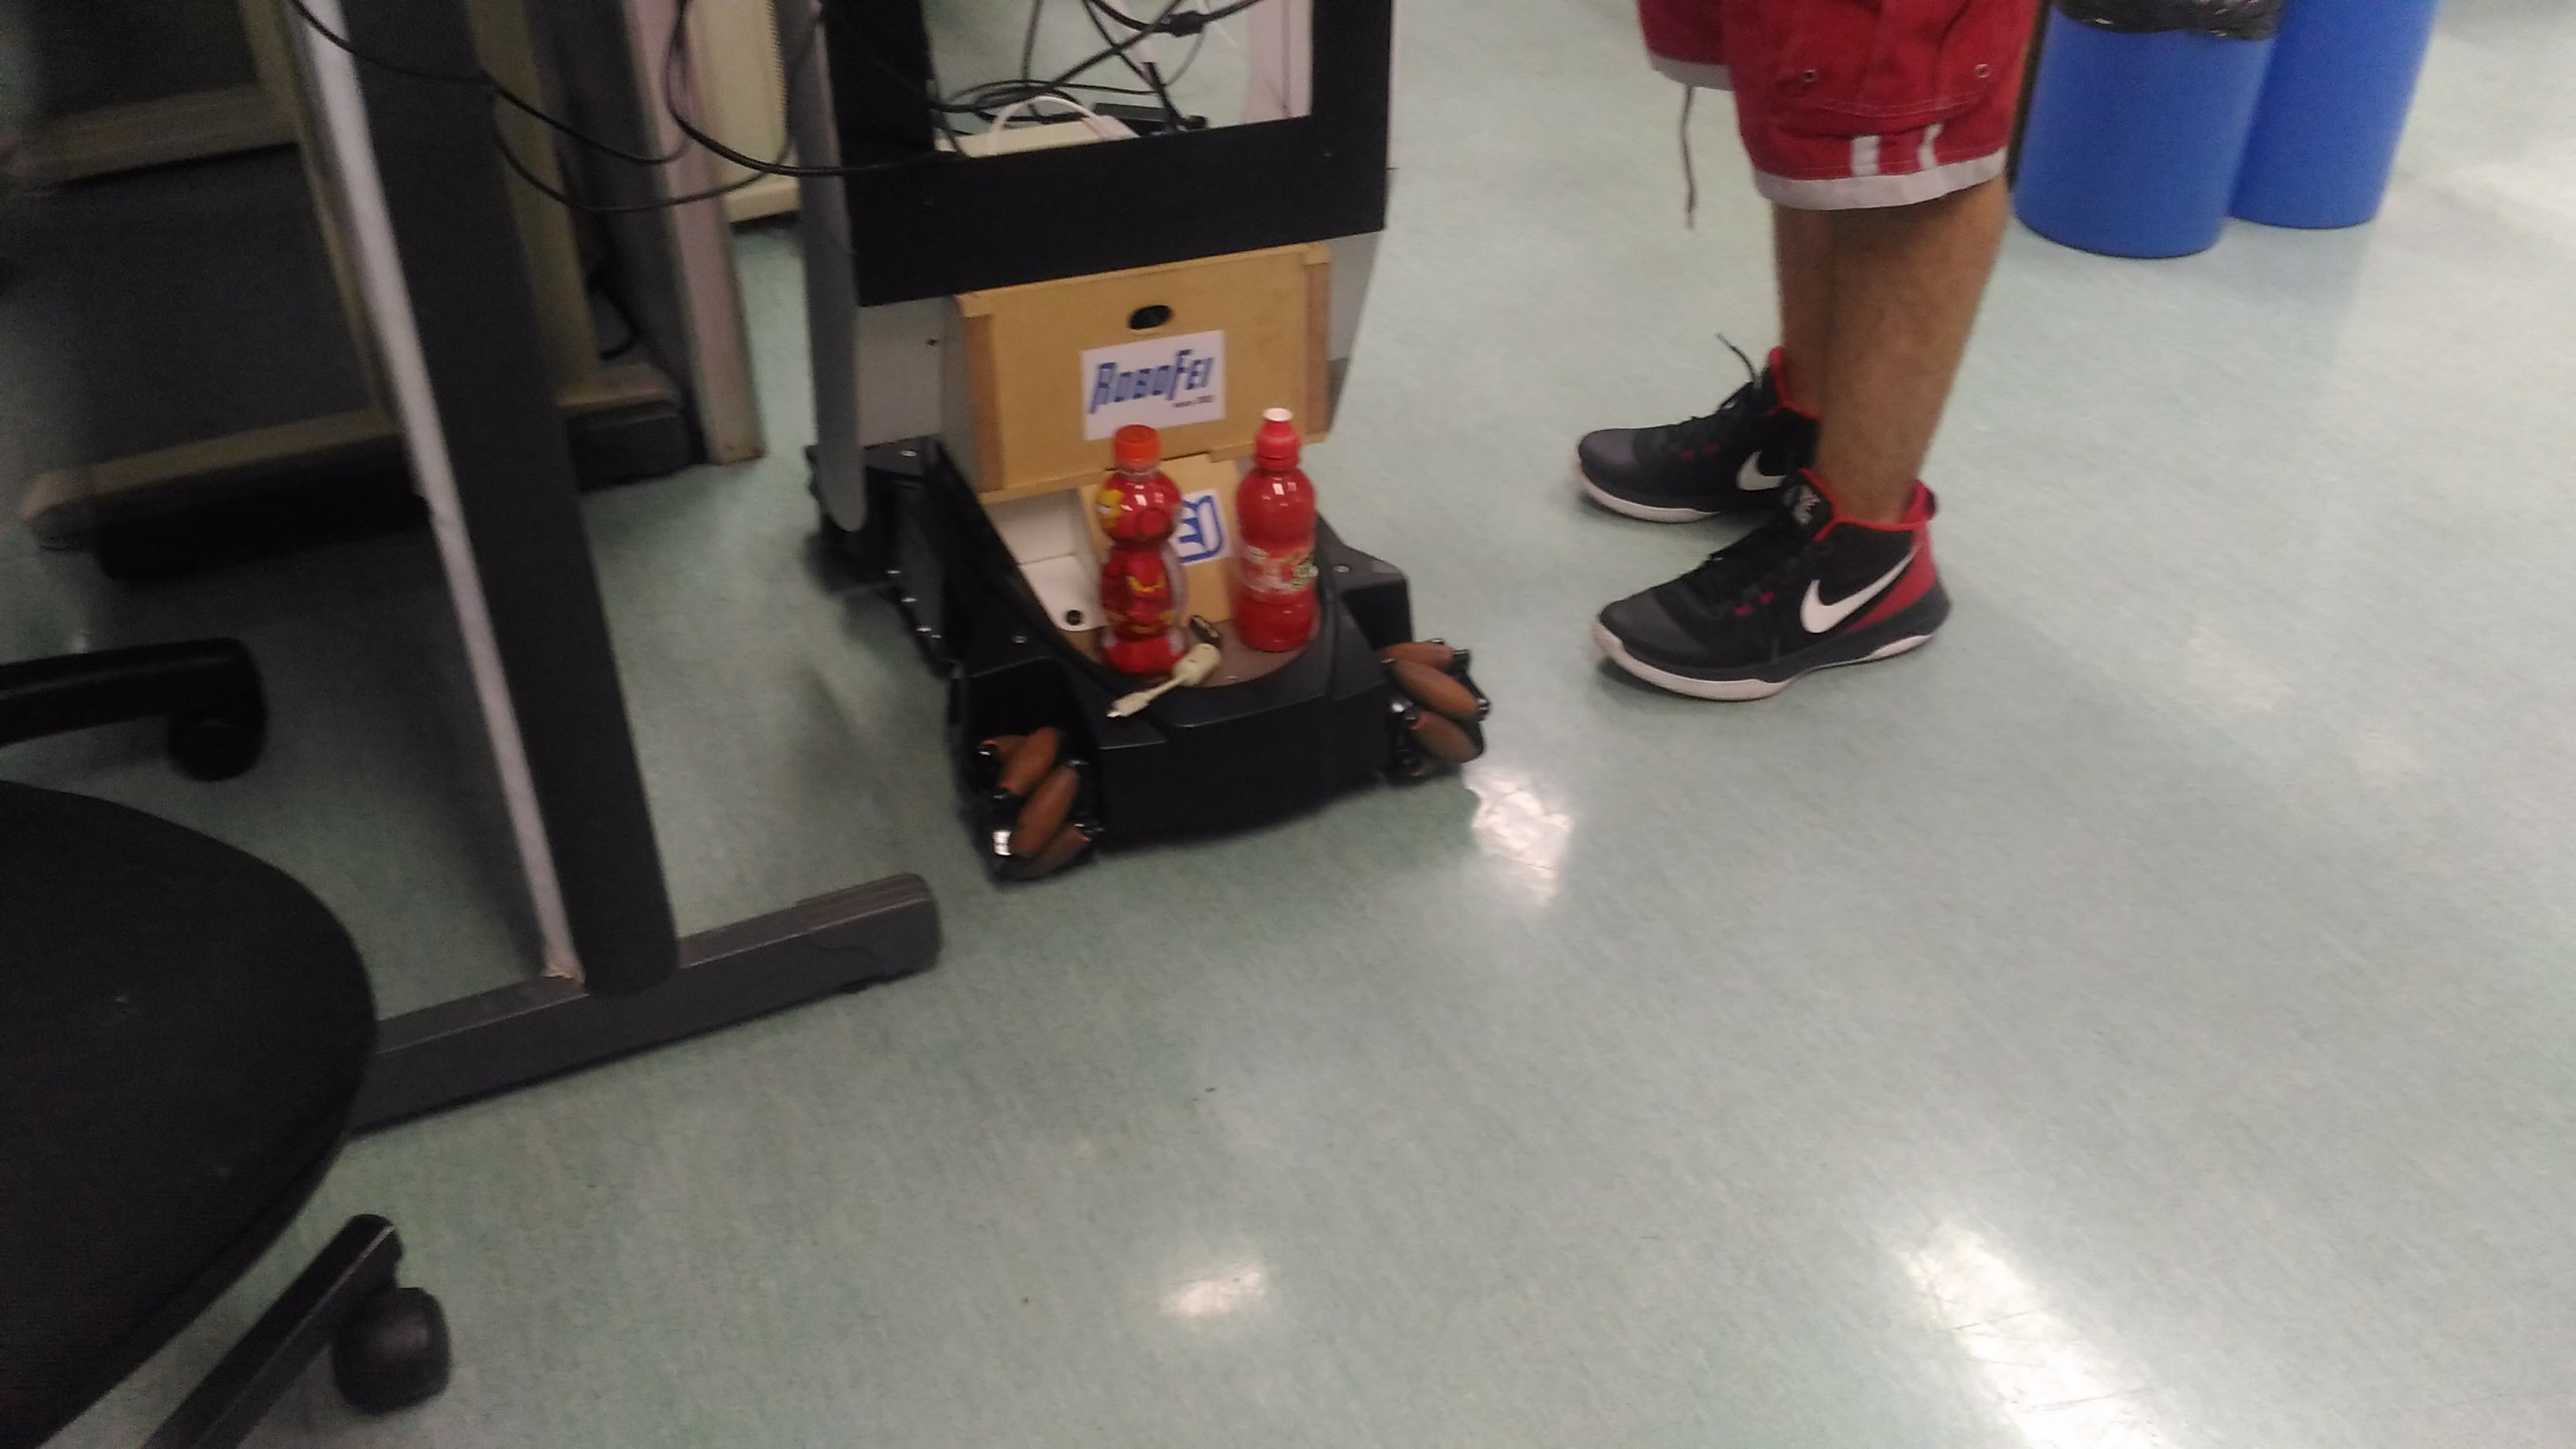iron_man: (1088, 417, 1196, 687)
red_juice: (1234, 400, 1320, 666)
